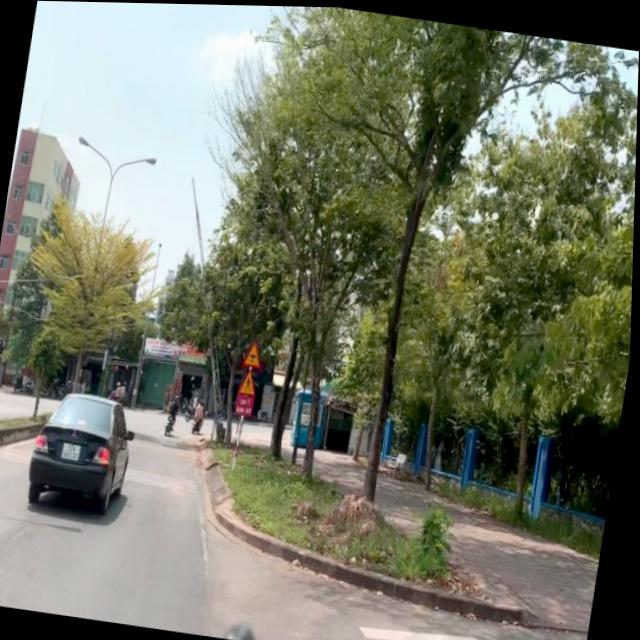Duong giao nhau cung cap: (243, 337, 267, 369)
Nguoi di bo cat ngang: (239, 366, 262, 397)
